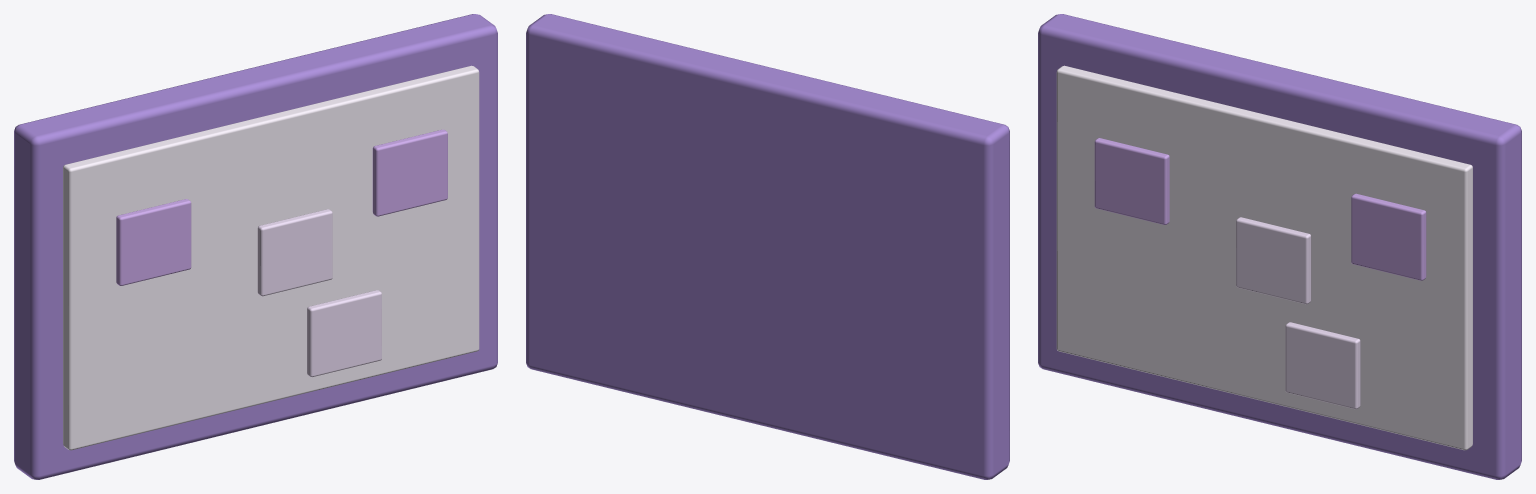
The model's file is office-notice-board.glb.
3 views of the same model, side by side, from view 1: azimuth 30°, elevation 25°; view 2: azimuth 150°, elevation 25°; view 3: azimuth 330°, elevation 25° (orthographic).
Visible parts, largest first — view 1: board, frame, note-1, note-2, note-0, note-3; view 2: frame; view 3: board, frame, note-3, note-2, note-0, note-1.
Part boxes in pixels (x1,y1,x2,y2): board: (63,65,479,450); frame: (14,14,497,479); note-1: (257,209,332,296); note-2: (372,129,447,216); note-0: (116,199,191,285); note-3: (307,290,381,377); frame: (526,14,1009,479); board: (1056,65,1472,450); frame: (1038,14,1521,479); note-3: (1285,322,1360,409); note-2: (1351,193,1426,280); note-0: (1094,138,1169,224); note-1: (1236,217,1311,304).
Size of the model in its own units: 1.42 by 1 by 0.1925.
